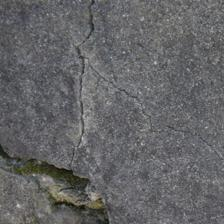Crack: (55, 130, 157, 200), (61, 45, 100, 178), (23, 68, 79, 152)
